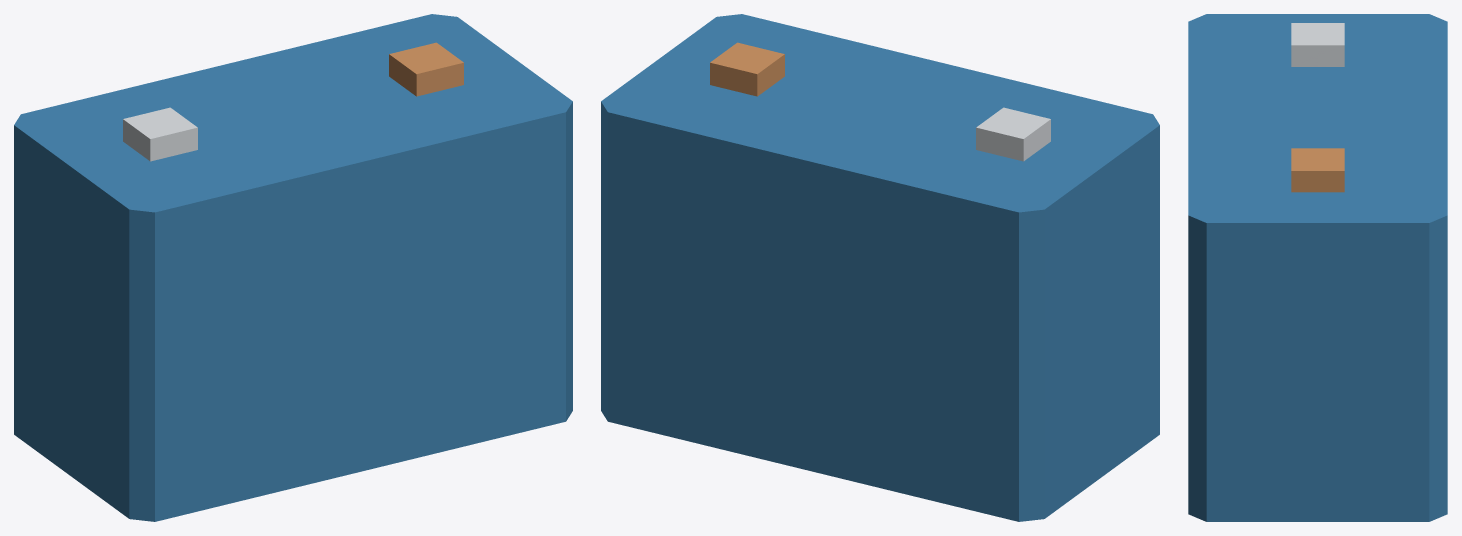
File: battery.glb
The picture shows the model from 3 angles, left to right: view 1: azimuth 30°, elevation 25°; view 2: azimuth 150°, elevation 25°; view 3: azimuth 270°, elevation 25°; orthographic projection. The views are drawn at different scales.
Parts seen in each view (by area): view 1: ForgeCore item; view 2: ForgeCore item; view 3: ForgeCore item.
Part boxes in pixels (left/top/right/bottom): ForgeCore item: left=14, top=14, right=572, bottom=521; ForgeCore item: left=601, top=14, right=1159, bottom=521; ForgeCore item: left=1188, top=14, right=1447, bottom=521.
Size of the model in its own units: 0.42 by 0.3002 by 0.22.
